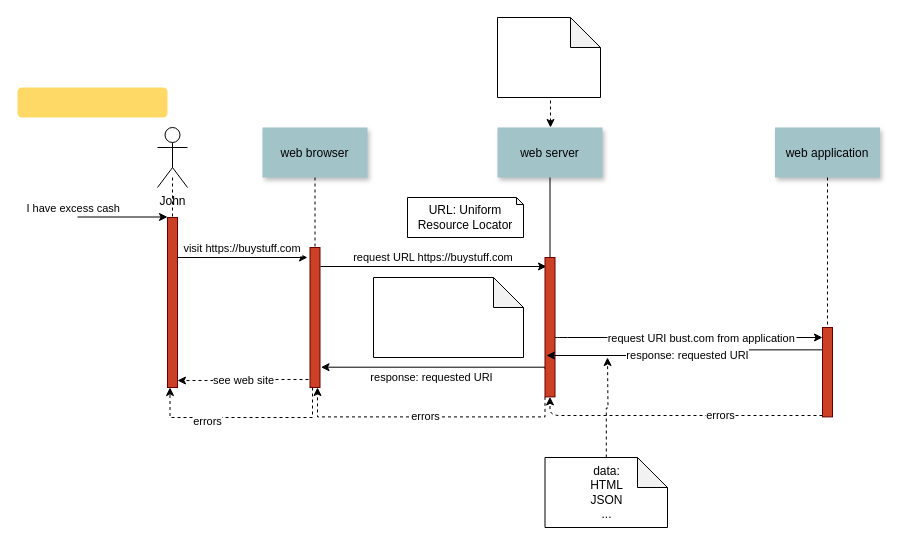
Image size: 903x545. Some labels were removed from this diagram. The shapes that lost their labels are listed below. From the top down, each one's centre as x and y in pixels, then its label:
[548,57]: This is a computer program running on the a machine often also called a server
[92,102]: basic web browsing
[448,317]: Communication language between web browser and web server: HTTP
